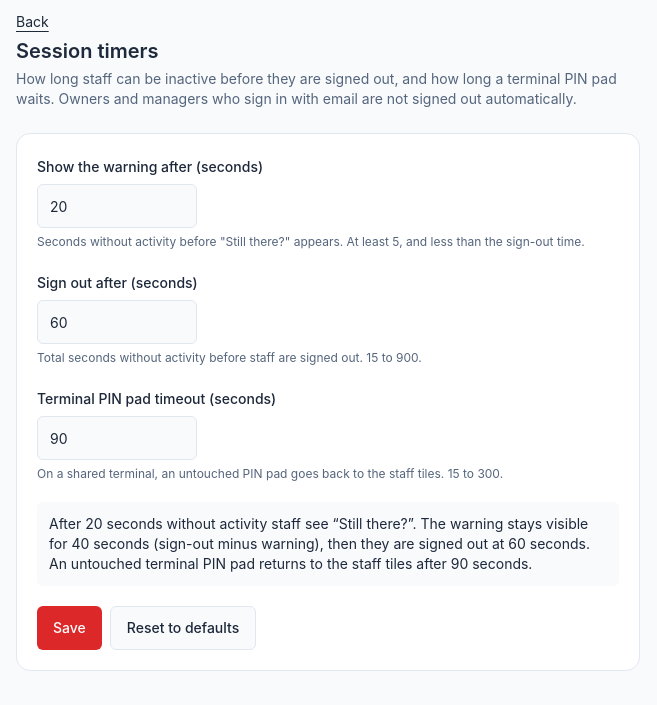
Test: SessionTimersPage › maps permission_denied to safe copy
Check: the number field labelled "Show the warning after (seconds)" holds "20", box [37,184,197,228]
Click the button "Save": coordinates (69, 628) [37,606,102,650]
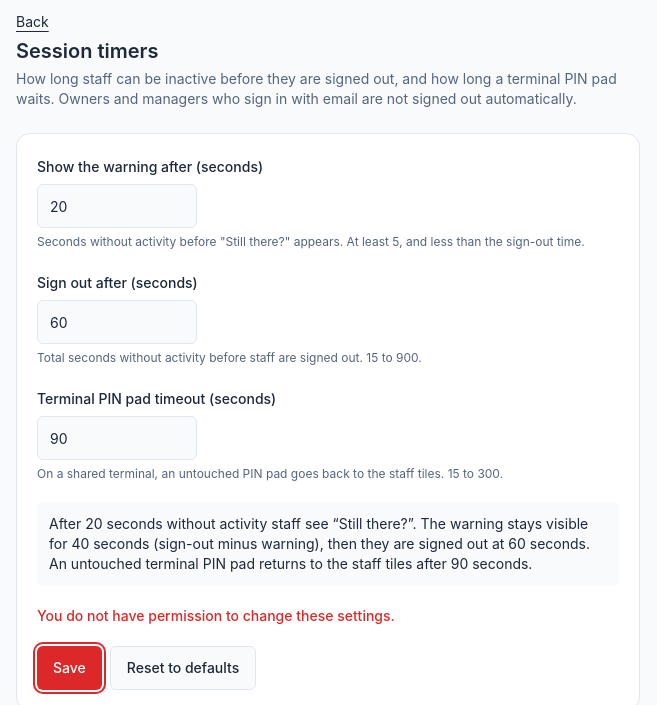
Check: the text "You do not have permission to change these settings." is shown, box [37,607,395,624]
